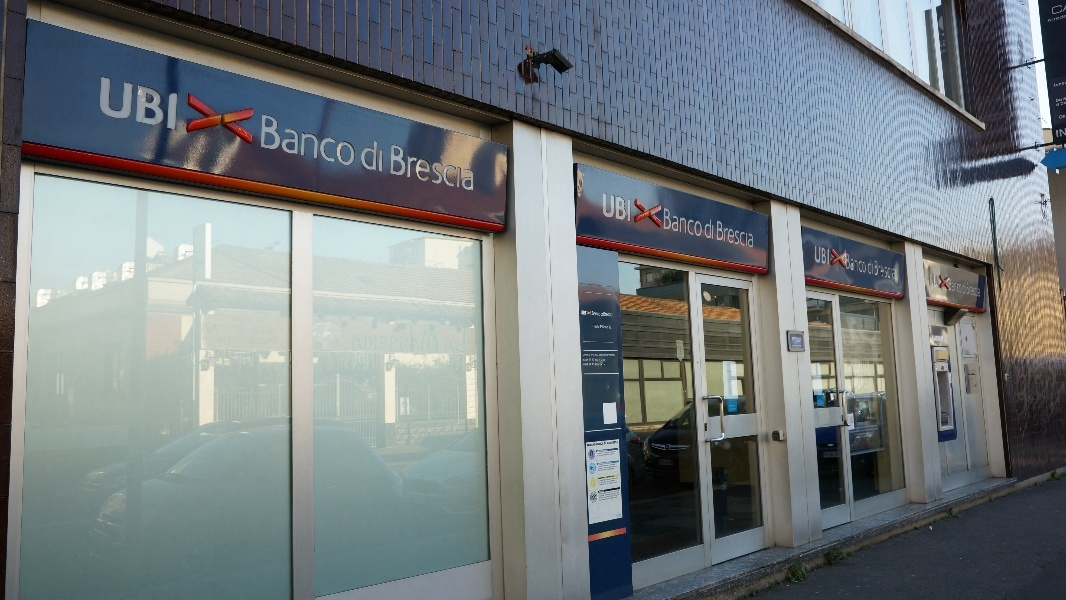text: (1025, 365, 1040, 421), (1041, 365, 1056, 421), (113, 77, 128, 131), (129, 77, 144, 131), (145, 77, 160, 131), (161, 77, 176, 131), (273, 114, 288, 168), (289, 114, 304, 168), (305, 114, 320, 168), (321, 114, 336, 168), (337, 114, 352, 168), (401, 144, 416, 192), (417, 144, 432, 192), (433, 144, 448, 192), (449, 144, 464, 192), (101, 77, 112, 131), (369, 138, 385, 173), (1057, 365, 1066, 421), (263, 114, 272, 168), (465, 144, 475, 192), (609, 193, 624, 223), (673, 208, 688, 238), (1016, 365, 1024, 421), (391, 144, 400, 192), (689, 208, 703, 238), (721, 221, 736, 249), (737, 221, 752, 249), (369, 329, 384, 352), (385, 329, 400, 352), (401, 329, 416, 352), (354, 329, 368, 352), (705, 219, 720, 240), (849, 253, 864, 274), (881, 261, 896, 280), (417, 329, 429, 352), (817, 246, 830, 266), (664, 208, 672, 238), (849, 360, 864, 376), (930, 273, 944, 289), (353, 114, 357, 168), (625, 193, 632, 223), (849, 377, 864, 389), (949, 278, 960, 294), (225, 323, 240, 333), (225, 336, 240, 346), (241, 336, 256, 346), (257, 336, 272, 346), (603, 193, 608, 223), (870, 260, 880, 275), (963, 283, 976, 294), (364, 138, 368, 173), (967, 283, 976, 297), (213, 323, 224, 333), (865, 377, 874, 389), (257, 326, 272, 333), (865, 360, 871, 376), (875, 261, 880, 280), (945, 337, 960, 343), (1057, 128, 1066, 138), (1057, 14, 1066, 24), (932, 336, 944, 343), (850, 428, 864, 434), (865, 428, 879, 434), (273, 326, 283, 333), (865, 425, 879, 430), (1049, 14, 1056, 24), (609, 490, 620, 496), (609, 492, 620, 498), (609, 494, 620, 500), (1057, 5, 1063, 16), (1057, 81, 1065, 89), (218, 336, 224, 346), (273, 336, 279, 346), (593, 325, 608, 329), (718, 221, 720, 249), (977, 283, 981, 297), (593, 442, 604, 447), (1051, 5, 1056, 16), (177, 77, 178, 131), (599, 490, 608, 496), (241, 323, 246, 333), (865, 432, 875, 437), (845, 360, 848, 376), (600, 492, 608, 498), (600, 494, 608, 500), (609, 326, 624, 329), (593, 354, 608, 357), (593, 363, 608, 366), (855, 425, 864, 430), (855, 432, 864, 437), (599, 480, 608, 485), (599, 482, 608, 487), (609, 482, 618, 487), (609, 497, 618, 502), (581, 311, 592, 315), (677, 346, 688, 350), (597, 449, 608, 453), (846, 253, 848, 274), (865, 253, 867, 274), (825, 452, 832, 458), (833, 452, 840, 458), (1059, 114, 1066, 120), (593, 311, 601, 316), (609, 441, 619, 445), (598, 451, 608, 455), (598, 453, 608, 457), (598, 462, 608, 466), (598, 464, 608, 468), (598, 466, 608, 470), (609, 478, 619, 482), (600, 497, 608, 502), (595, 359, 608, 362), (599, 359, 608, 363), (596, 363, 608, 366), (609, 466, 618, 470), (599, 468, 608, 472), (599, 476, 608, 480), (599, 478, 608, 482), (940, 39, 944, 48), (251, 326, 256, 333), (601, 312, 608, 317), (609, 480, 616, 485), (617, 514, 624, 519), (677, 342, 688, 345), (600, 363, 608, 367), (961, 278, 963, 294), (1057, 98, 1063, 103), (601, 325, 608, 329), (753, 221, 754, 249), (818, 399, 832, 401), (793, 337, 800, 341), (609, 451, 616, 455), (609, 464, 616, 468), (583, 354, 592, 357), (599, 490, 608, 493), (603, 312, 608, 317), (587, 442, 592, 447), (1061, 101, 1066, 106), (584, 359, 592, 362), (584, 363, 592, 366), (609, 453, 615, 457), (609, 468, 615, 472), (609, 476, 615, 480), (1053, 81, 1056, 89), (940, 48, 944, 54), (609, 354, 616, 357), (729, 405, 736, 408), (609, 312, 613, 317), (603, 359, 608, 363), (815, 246, 816, 266), (726, 381, 736, 383), (679, 357, 688, 359), (945, 39, 947, 48), (945, 48, 948, 54), (609, 462, 613, 466), (603, 363, 608, 366), (793, 345, 800, 347), (730, 401, 736, 403), (730, 409, 736, 411), (604, 442, 608, 445), (1057, 103, 1060, 107), (725, 378, 736, 379), (725, 380, 736, 381), (678, 354, 688, 355), (726, 376, 736, 377), (589, 359, 592, 362), (589, 363, 592, 366), (679, 353, 688, 354), (679, 356, 688, 357), (727, 372, 736, 373), (593, 359, 595, 362), (1055, 98, 1056, 103), (801, 337, 802, 341), (796, 341, 800, 342), (801, 345, 803, 347), (607, 441, 608, 445), (801, 341, 802, 342)
